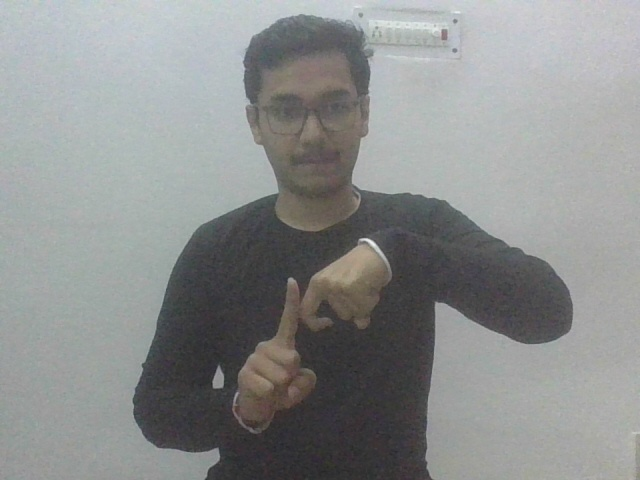K: (234, 249, 386, 421)
